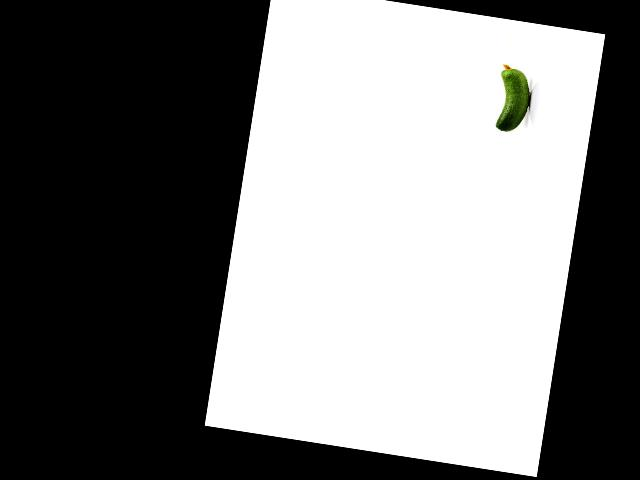cucumber: (492, 63, 535, 135)
